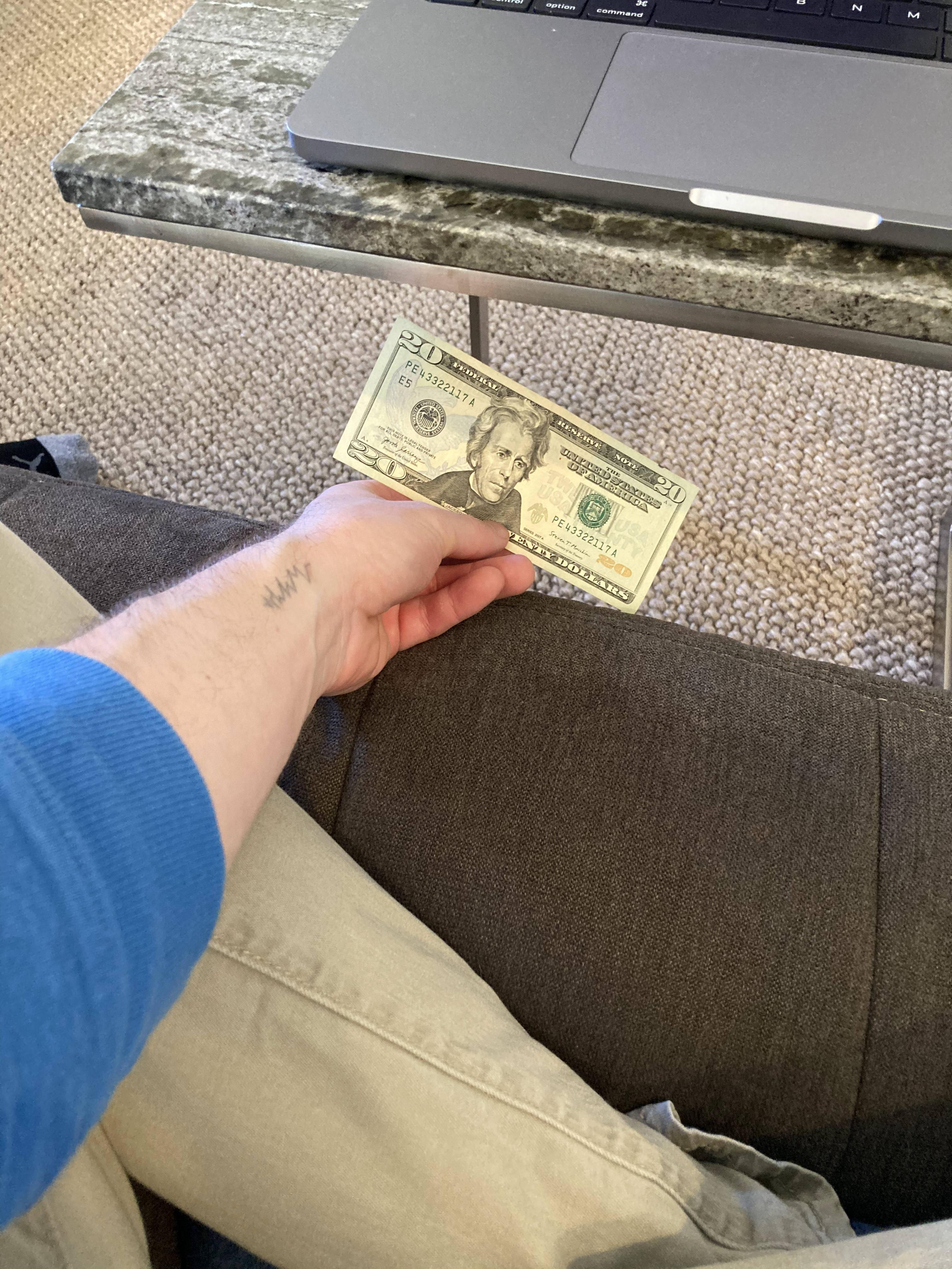twenty-front: (331, 316, 705, 620)
